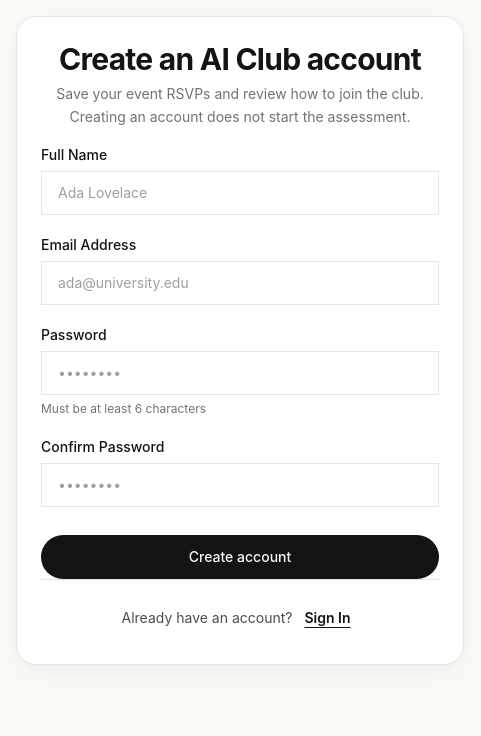
Account creation recovery and session handling › announces blank registration errors and focuses the first invalid field
Expected: the heading reads "Create an AI Club account", [59,41,421,77]
Step 1. Click the button "Create account" → (240, 556), box [41,534,439,578]
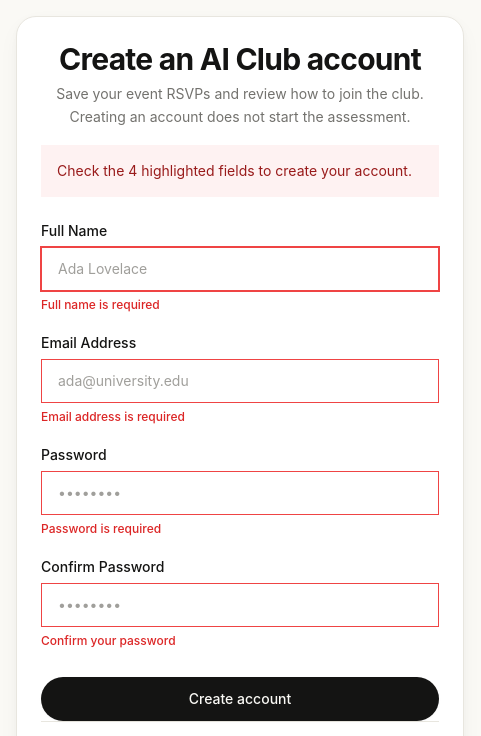
Expected: the message shows "Check the 4 highlighted fields", [41,144,439,196]
